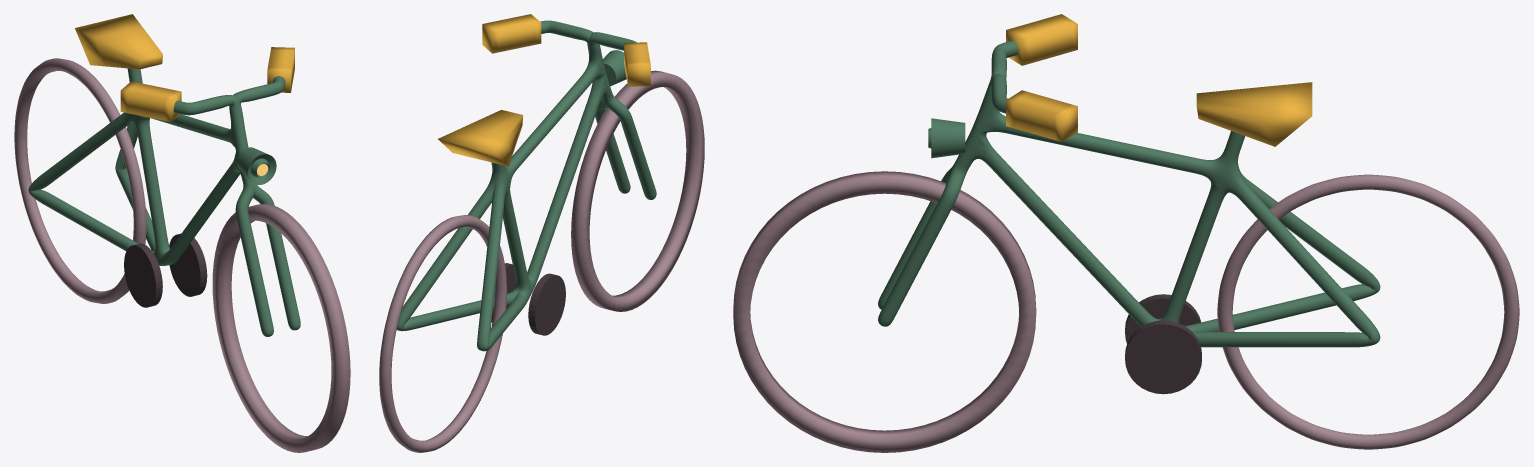
Rendered from sample.glb.
3 renders of one model, left to right at view 1: azimuth 30°, elevation 25°; view 2: azimuth 150°, elevation 25°; view 3: azimuth 270°, elevation 25°, orthographic. The views are drawn at different scales.
Visible parts, largest first — view 1: 平面, 円, 円.001, 円柱, 立方体, 平面.001, 円柱.001; view 2: 平面, 円, 円.001, 平面.001, 立方体, 円柱, 円柱.001; view 3: 平面, 円, 円.001, 円柱, 平面.001, 立方体, 円柱.001.
Part boxes in pixels (box(x1,y1,x2,y2)): 平面: box(28, 68, 300, 336); 円: box(212, 204, 350, 452); 円.001: box(14, 58, 146, 303); 円柱: box(124, 233, 207, 307); 立方体: box(75, 14, 162, 69); 平面.001: box(120, 47, 294, 121); 円柱.001: box(237, 147, 276, 184); 平面: box(396, 20, 656, 351); 円: box(571, 70, 704, 311); 円.001: box(379, 215, 506, 452); 平面.001: box(482, 14, 650, 86); 立方体: box(438, 110, 523, 166); 円柱: box(491, 263, 565, 335); 円柱.001: box(603, 50, 626, 86); 平面: box(878, 40, 1380, 347); 円: box(733, 171, 1036, 452); 円.001: box(1217, 174, 1519, 449); 円柱: box(1125, 294, 1201, 394); 平面.001: box(1006, 14, 1077, 141); 立方体: box(1196, 82, 1312, 146); 円柱.001: box(928, 118, 965, 158).
Size of the model in its own units: 1.47 by 2.57 by 4.77.
